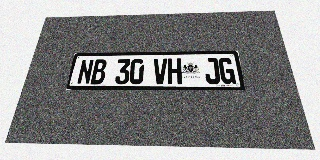0: (129, 59, 144, 84)
3: (115, 59, 131, 84)
B: (90, 59, 107, 84)
G: (218, 58, 236, 84)
H: (168, 58, 182, 84)
J: (204, 58, 221, 84)
N: (76, 59, 94, 84)
V: (153, 58, 167, 84)
